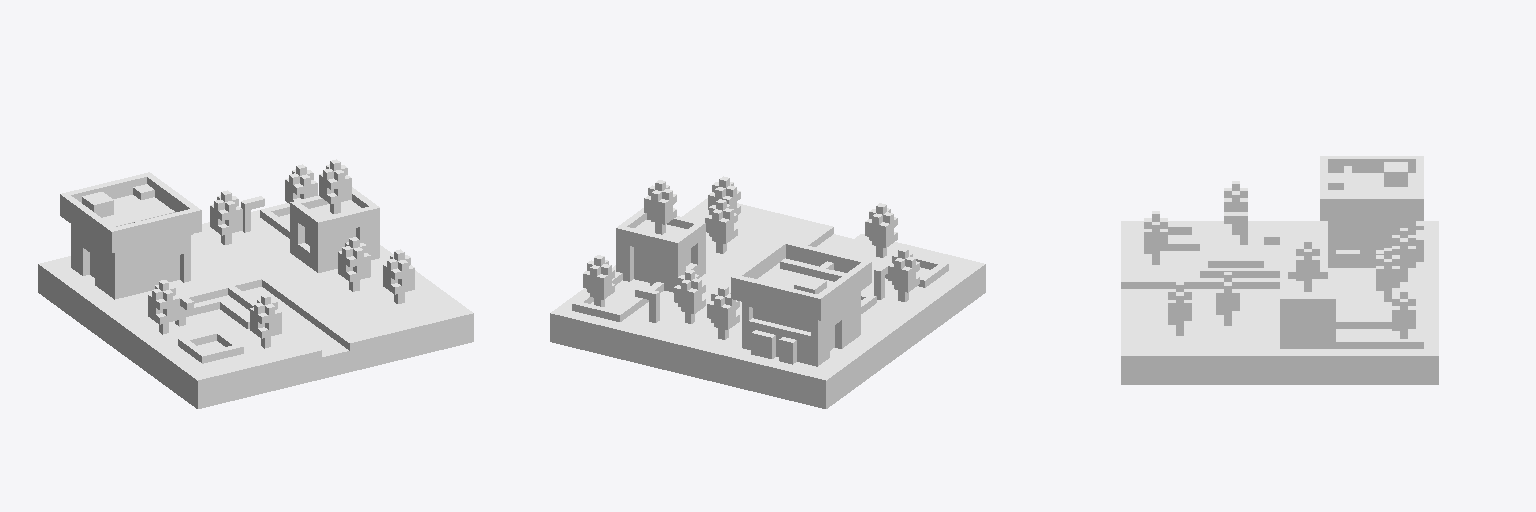
The model's file is end_park_v2.obj.
The picture shows the model from 3 angles: view 1: azimuth 30°, elevation 25°; view 2: azimuth 150°, elevation 25°; view 3: azimuth 270°, elevation 25°; orthographic projection.
Visible parts, largest first — view 1: end_park_v2; view 2: end_park_v2; view 3: end_park_v2.
Part boxes in pixels (left/top/right/bottom): end_park_v2: left=38, top=159, right=473, bottom=408; end_park_v2: left=550, top=176, right=985, bottom=408; end_park_v2: left=1121, top=156, right=1438, bottom=384.
Size of the model in its own units: 40 by 17 by 40.